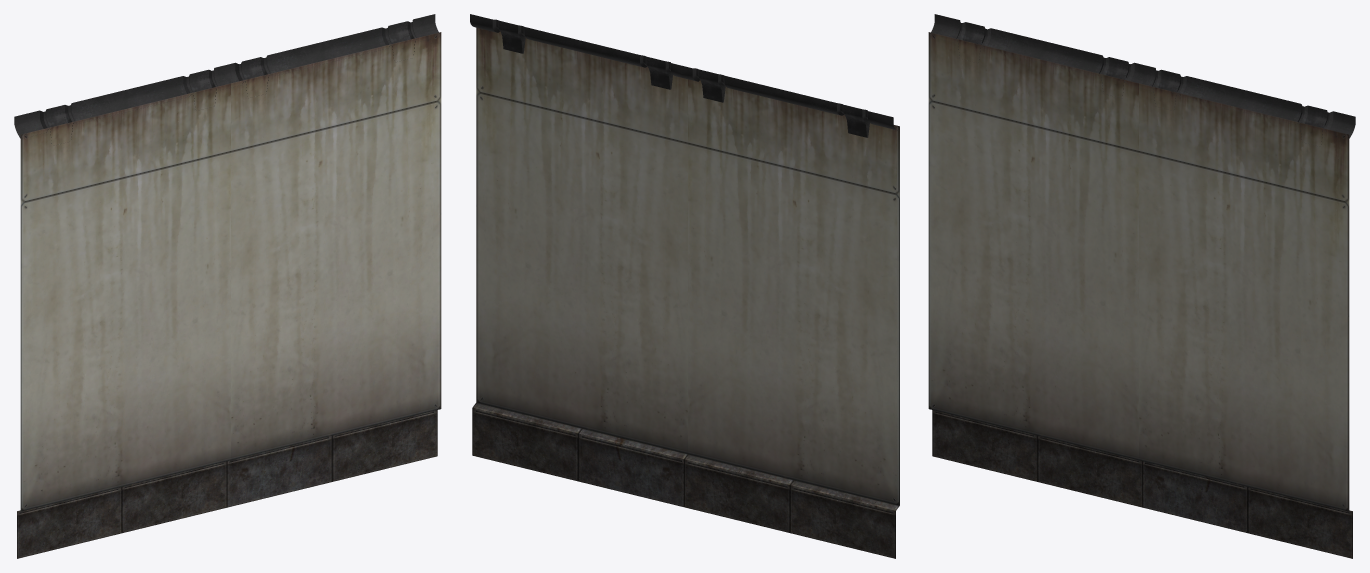
The model's file is lab_flat.dae.
3 views of the same model, side by side, from view 1: azimuth 30°, elevation 25°; view 2: azimuth 150°, elevation 25°; view 3: azimuth 330°, elevation 25° (orthographic).
Visible parts, largest first — view 1: lab_flat; view 2: lab_flat; view 3: lab_flat.
Part boxes in pixels (x1=…): lab_flat: x1=14, y1=14, x2=441, y2=558; lab_flat: x1=470, y1=14, x2=899, y2=558; lab_flat: x1=928, y1=14, x2=1355, y2=558.
Bounding box in the file's own units: 4 × 4 × 0.1056.
